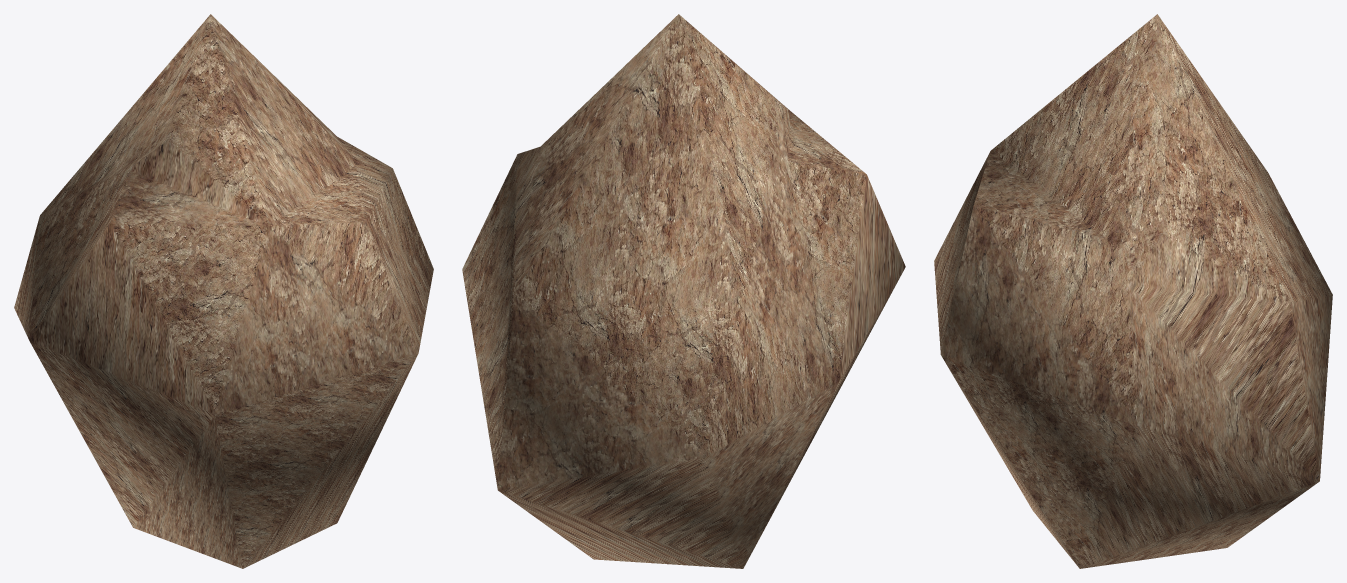
The model's file is rock_tatt_boulder_tan_a1_l3.fbx.
3 views of the same model, side by side, from view 1: azimuth 30°, elevation 25°; view 2: azimuth 150°, elevation 25°; view 3: azimuth 270°, elevation 25° (orthographic). The views are drawn at different scales.
Visible parts, largest first — view 1: mesh_node; view 2: mesh_node; view 3: mesh_node.
Boxes of the visible parts, x1,y1,x2,y2 form: mesh_node: (14, 14, 433, 568); mesh_node: (462, 14, 905, 568); mesh_node: (934, 14, 1332, 568).
Bounding box in the file's own units: 5.28 × 6.67 × 4.72.
